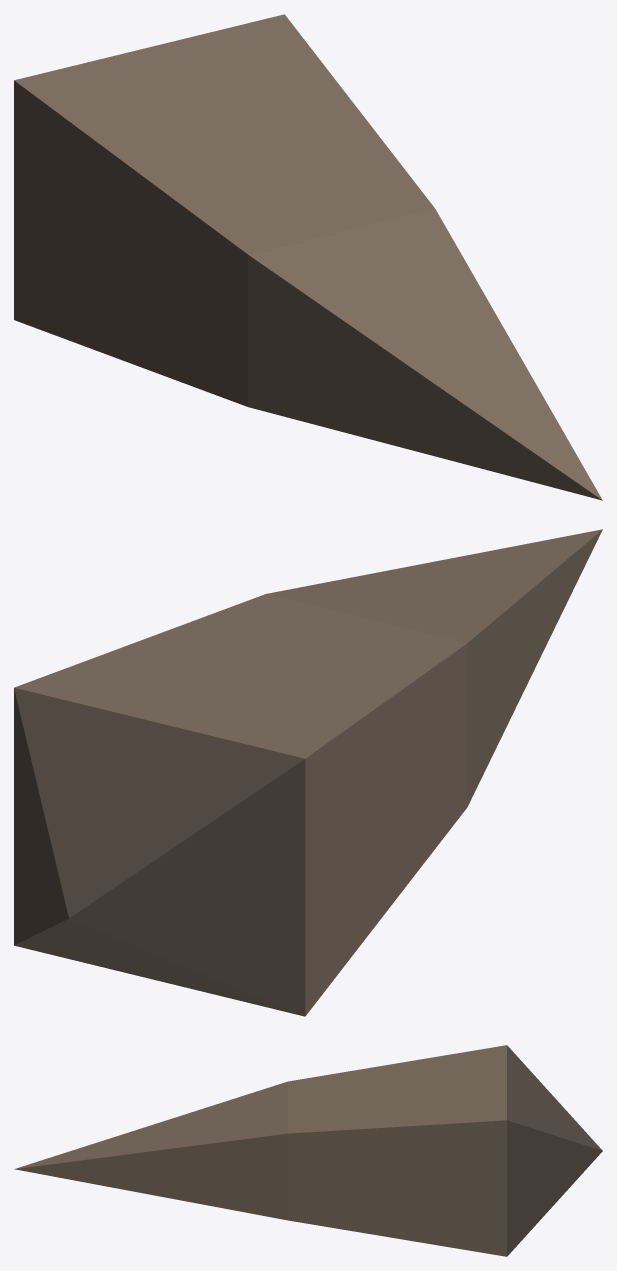
File: RockShard.obj
3 renders of one model, top to bottom at view 1: azimuth 30°, elevation 25°; view 2: azimuth 150°, elevation 25°; view 3: azimuth 270°, elevation 25°, orthographic. The views are drawn at different scales.
Parts seen in each view (by area): view 1: Shard; view 2: Shard; view 3: Shard.
Boxes of the visible parts, left/top/right/bottom form: Shard: left=14, top=14, right=602, bottom=500; Shard: left=14, top=529, right=602, bottom=1016; Shard: left=14, top=1045, right=602, bottom=1256.
Bounding box in the file's own units: 0.13 × 0.11 × 0.43.
